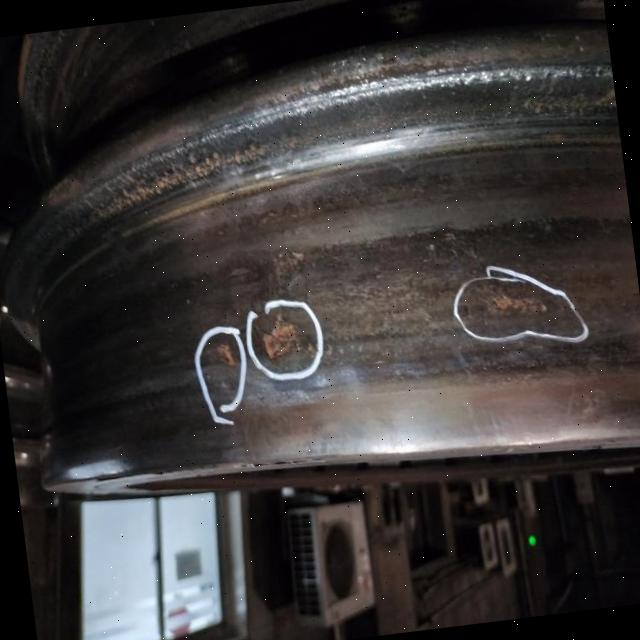Peeling: (260, 312, 301, 363), (485, 291, 548, 321), (217, 343, 238, 370)
